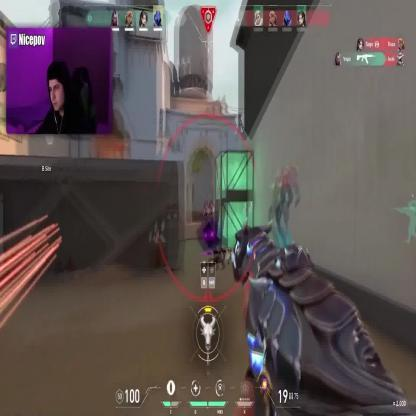enemy: (203, 199, 215, 242)
enemy_head: (206, 200, 212, 210)
